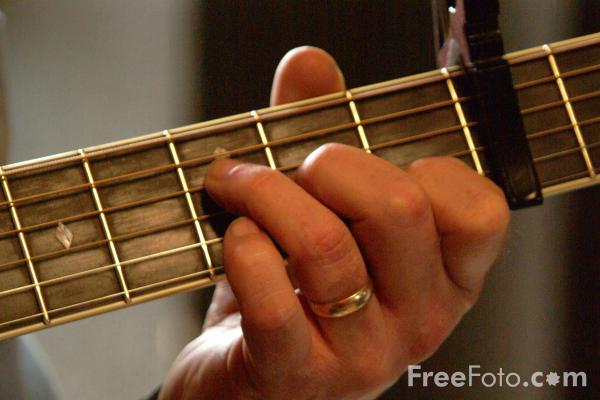guitar: (2, 34, 600, 342)
